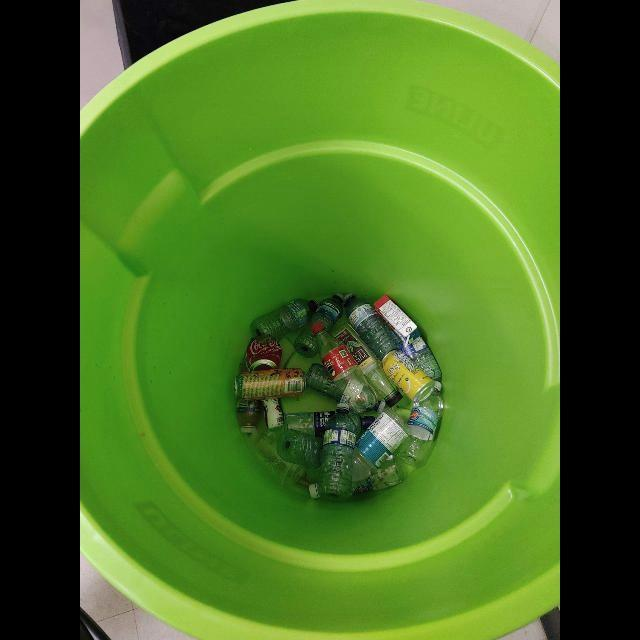aluminum: (382, 350, 434, 403), (236, 368, 304, 400), (244, 338, 282, 372)
plastic_bottle: (329, 322, 403, 408), (311, 322, 378, 414), (352, 407, 412, 482), (305, 363, 386, 413), (397, 380, 443, 467), (343, 293, 401, 361), (318, 403, 357, 500), (294, 293, 343, 358), (250, 299, 318, 341), (284, 411, 375, 439), (352, 455, 402, 496), (277, 429, 322, 469)
